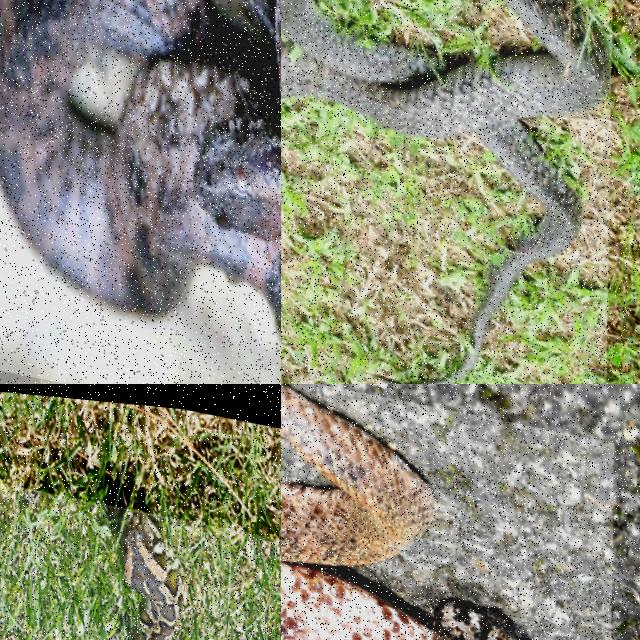Naja kaouthia: (281, 0, 610, 383)
Ovophis monticola: (0, 0, 280, 331), (281, 384, 517, 639)
Python bivittatus: (121, 511, 184, 639)
